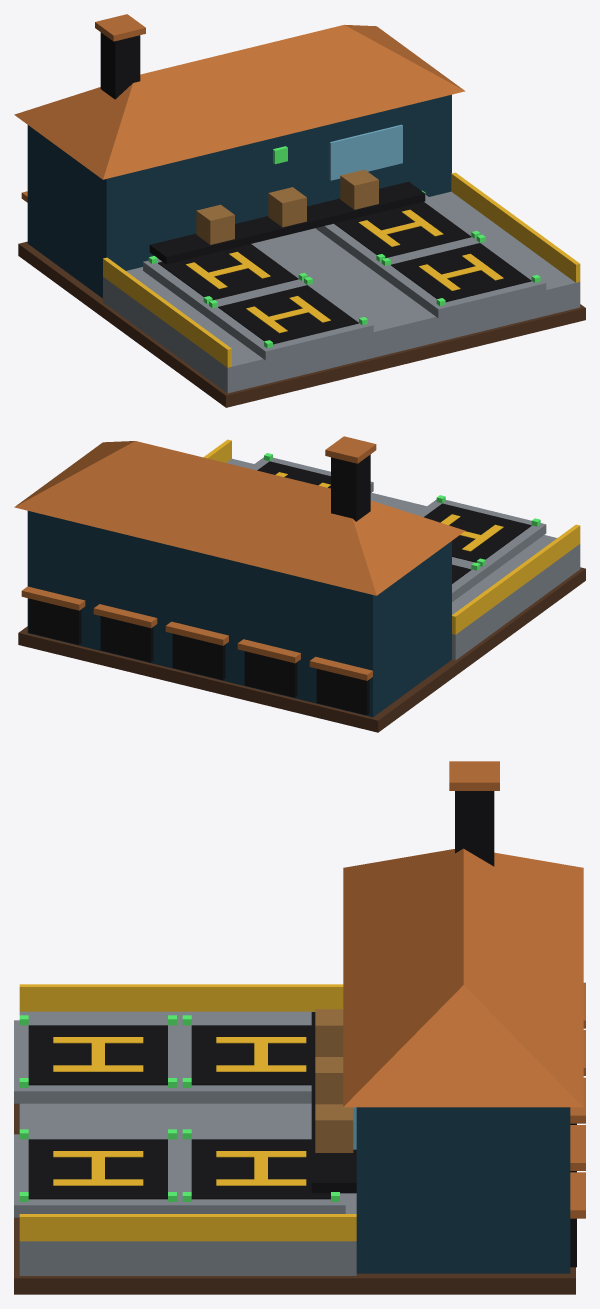
File: drone_load_station.obj
The picture shows the model from 3 angles, top to bottom: view 1: azimuth 30°, elevation 25°; view 2: azimuth 150°, elevation 25°; view 3: azimuth 270°, elevation 25°; orthographic projection. The views are drawn at different scales.
Visible parts, largest first — view 1: Packer, Base, PadLamps; view 2: Packer, Base; view 3: Packer, Base, PadLamps.
Part boxes in pixels (x1,y1,x2,y2): Packer: [14, 14, 465, 298]; Base: [18, 172, 585, 407]; PadLamps: [148, 190, 540, 348]; Packer: [14, 436, 465, 717]; Base: [18, 439, 585, 732]; Packer: [311, 761, 585, 1273]; Base: [14, 984, 575, 1294]; PadLamps: [19, 1015, 339, 1201].
Bounding box in the file's own units: 5.04 × 3.22 × 5.09.
